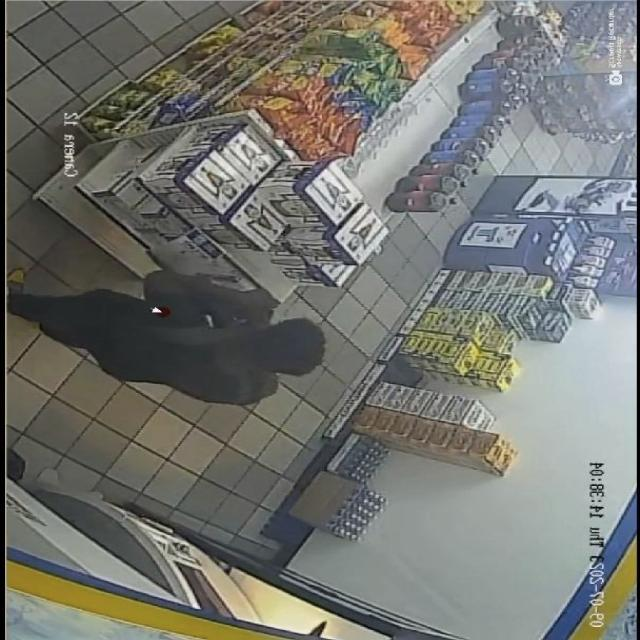Shoplifting: (0, 218, 364, 420)
